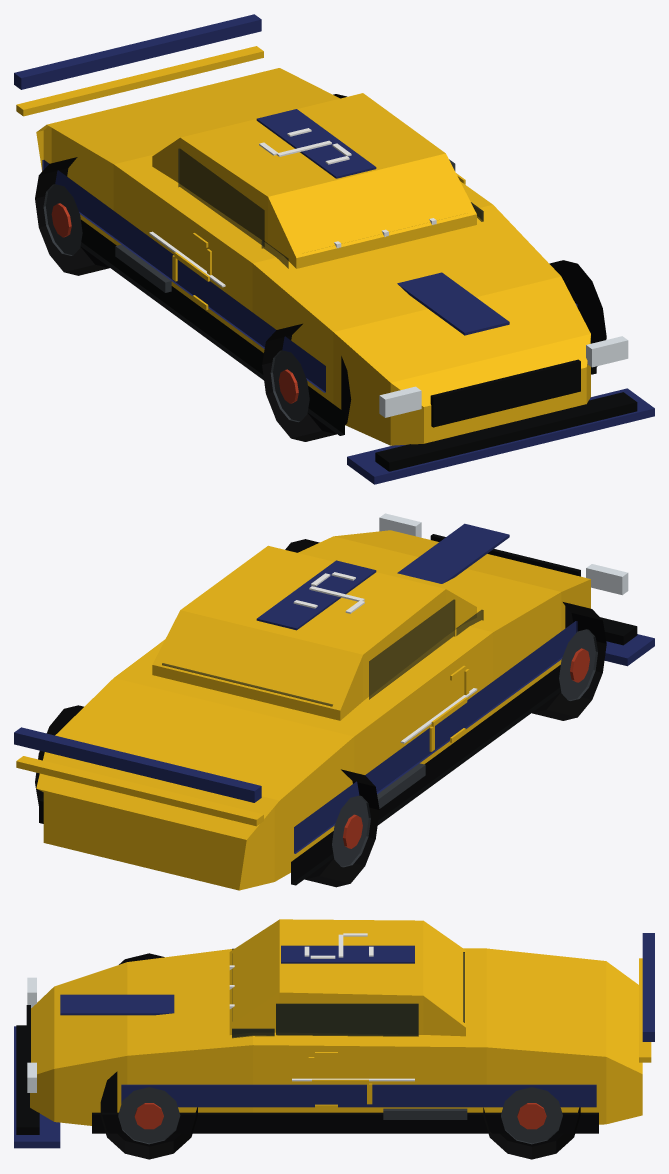
Rendered from stock_car_02.obj.
3 views of the same model, one above another, from view 1: azimuth 30°, elevation 25°; view 2: azimuth 150°, elevation 25°; view 3: azimuth 270°, elevation 25° (orthographic). The views are drawn at different scales.
Visible parts, largest first — view 1: StockCar_02; view 2: StockCar_02; view 3: StockCar_02.
Boxes of the visible parts, x1,y1,x2,y2 form: StockCar_02: (14, 14, 654, 484); StockCar_02: (14, 513, 654, 890); StockCar_02: (14, 919, 654, 1159).
Bounding box in the file's own units: 2.35 × 1.34 × 5.26.
